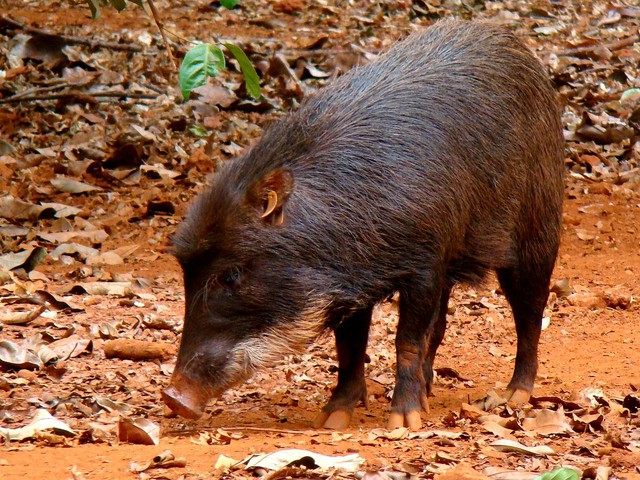Pig: (167, 14, 559, 441)
